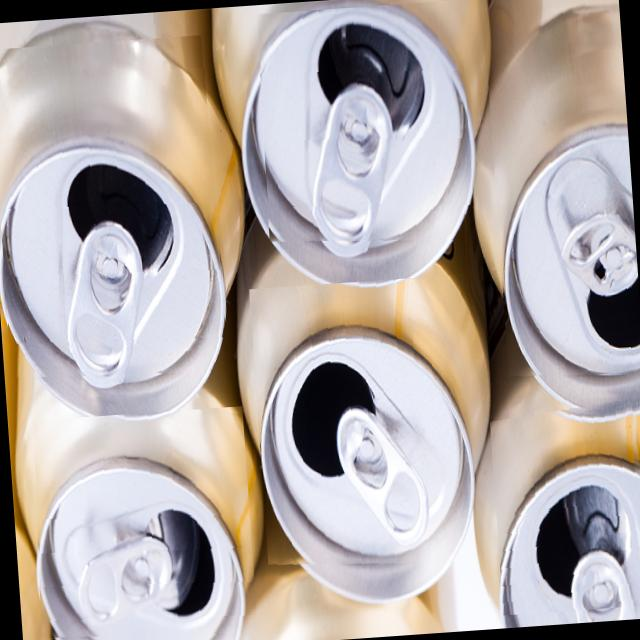Cans: (0, 33, 228, 384), (248, 273, 488, 576), (480, 0, 640, 381), (252, 0, 474, 252), (25, 404, 256, 640), (487, 397, 640, 614)
